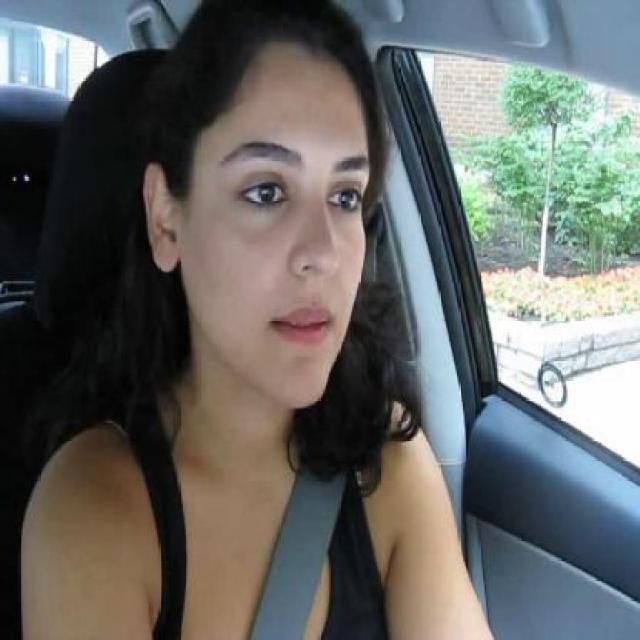awake: (239, 173, 286, 209), (328, 180, 362, 215)
